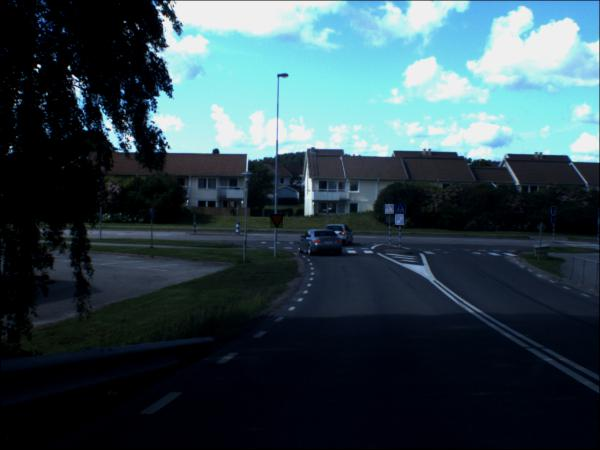GIVE_WAY: (270, 215, 284, 230)
PASS_RIGHT_SIDE: (395, 216, 405, 228), (552, 217, 556, 225)
PEDESTRIAN_CROSSING: (395, 204, 406, 215), (385, 205, 395, 216), (552, 208, 556, 216)
